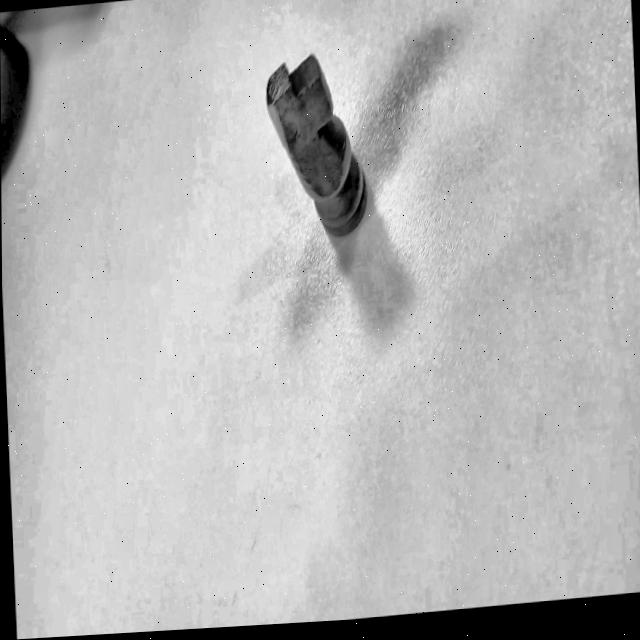black-knight: (255, 43, 385, 256)
